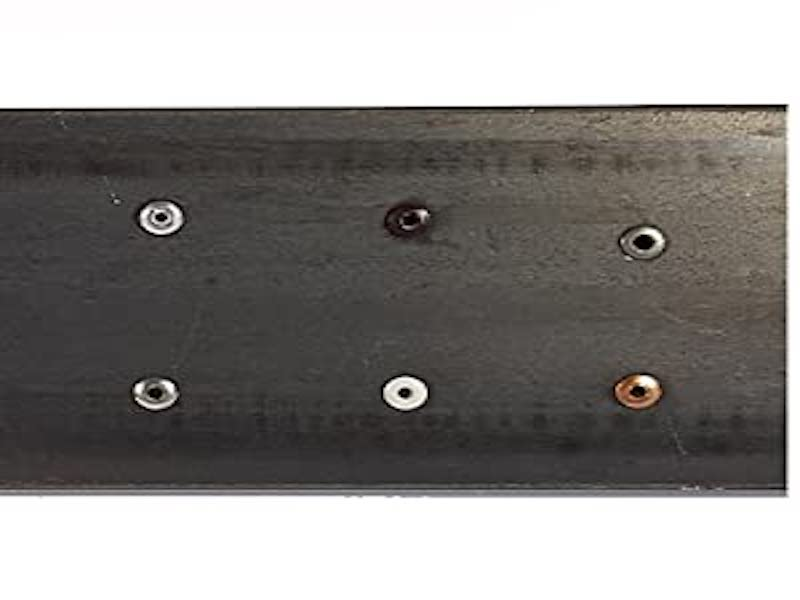screw: (616, 223, 671, 266), (611, 370, 666, 412), (380, 200, 436, 241), (379, 371, 433, 413), (131, 374, 183, 415), (138, 198, 186, 237)
